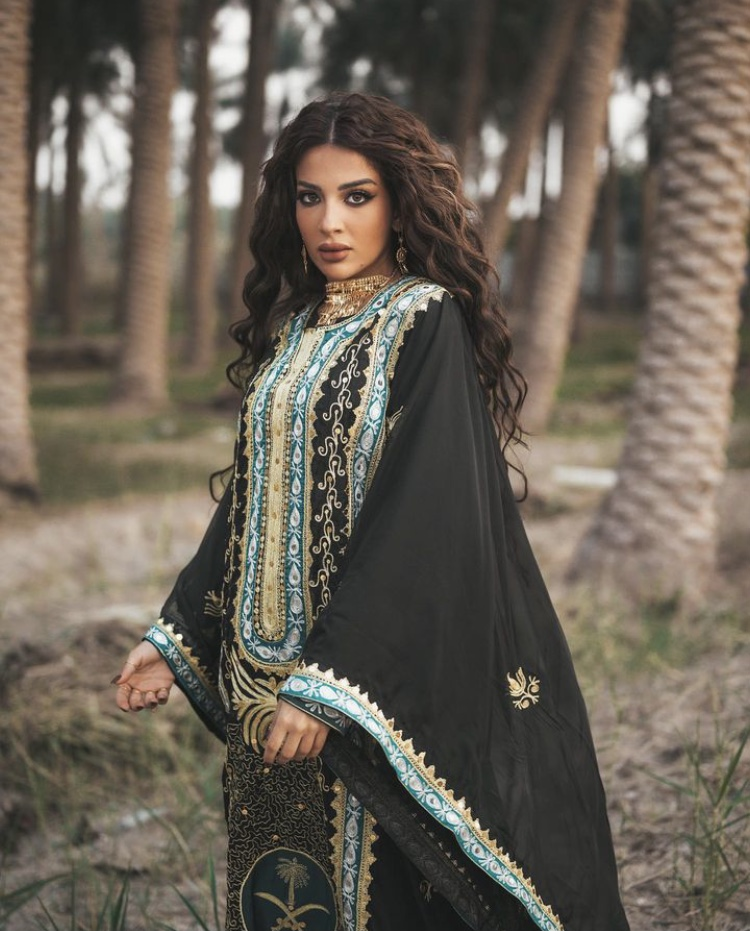Saudi_Founding_Day: (112, 91, 636, 930)
